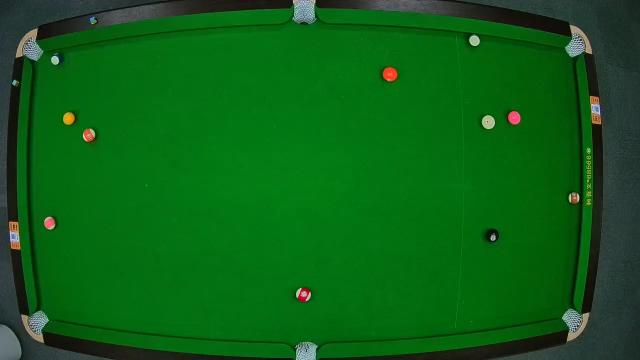bag1: (22, 38, 44, 62)
bag2: (293, 1, 315, 23)
bag3: (566, 34, 586, 57)
bag4: (29, 308, 49, 334)
bag5: (294, 342, 320, 360)
bag6: (562, 310, 582, 332)
ball0: (480, 114, 496, 131)
ball1: (60, 110, 76, 126)
ball10: (50, 52, 66, 66)
ball11: (294, 287, 312, 303)
ball12: (44, 216, 56, 231)
ball13: (80, 127, 98, 144)
ball14: (466, 33, 482, 49)
ball15: (568, 192, 580, 204)
ball4: (506, 110, 522, 124)
ball5: (382, 66, 398, 84)
ball8: (486, 228, 500, 243)
